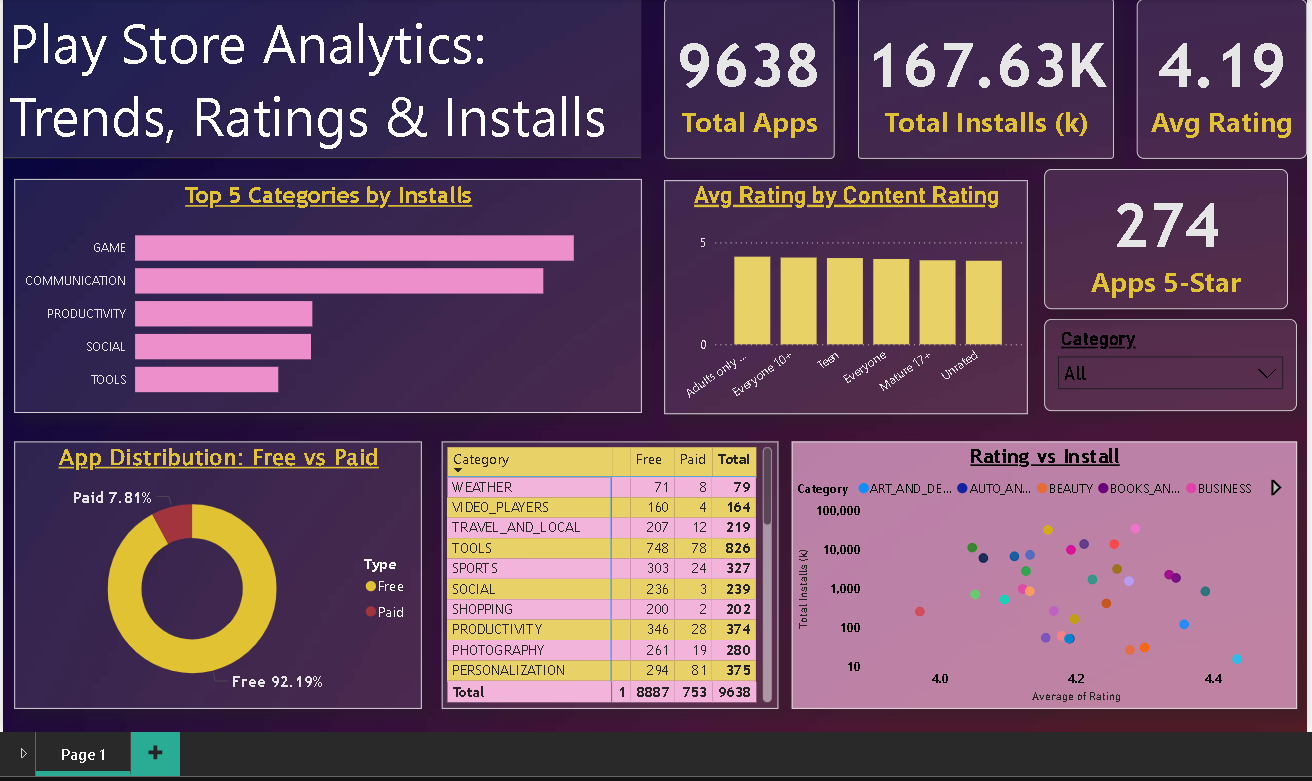

Layout of this report page (visuals, bound fields, positions):
{"tool":"powerbi","page":{"name":"Page 1","canvas":[1280,720],"ordinal":0},"visuals":[{"type":"textbox","box":[0,0,627,157.1],"z":0},{"type":"card","fields":{"Values":["cleaned_googleplaystore_dataset.Total Apps"]},"box":[649.1,0,166.9,157.1],"z":1000},{"type":"card","fields":{"Values":["cleaned_googleplaystore_dataset.Total Installs (k)"]},"box":[839.3,0,251.5,157.1],"z":2000},{"type":"card","fields":{"Values":["cleaned_googleplaystore_dataset.Avg Rating"]},"box":[1112.9,0,166.9,157.1],"z":3000},{"type":"clusteredBarChart","title":"Top 5 Categories by Installs","fields":{"Category":["cleaned_googleplaystore_dataset.Category"],"Y":["Sum(cleaned_googleplaystore_dataset.Installs)"]},"box":[11,176.7,616,229.4],"z":4000},{"type":"donutChart","title":"App Distribution: Free vs Paid","fields":{"Category":["cleaned_googleplaystore_dataset.Type"],"Y":["cleaned_googleplaystore_dataset.Total Apps"]},"box":[11,434.4,400,262.6],"z":5000},{"type":"clusteredColumnChart","fields":{"Category":["cleaned_googleplaystore_dataset.Content Rating"],"Y":["cleaned_googleplaystore_dataset.Avg Rating"]},"box":[649.1,177.9,357.1,229.4],"z":6000},{"type":"pivotTable","fields":{"Rows":["cleaned_googleplaystore_dataset.Category"],"Columns":["cleaned_googleplaystore_dataset.Type"],"Values":["cleaned_googleplaystore_dataset.Total Apps"]},"box":[430.7,434.4,330.1,262.6],"z":7000},{"type":"scatterChart","title":"Rating vs Install","fields":{"X":["Avg(cleaned_googleplaystore_dataset.Rating)"],"Series":["cleaned_googleplaystore_dataset.Category"],"Y":["cleaned_googleplaystore_dataset.Total Installs (k)"]},"box":[774.2,434.4,495.7,262.6],"z":8000},{"type":"slicer","fields":{"Values":["cleaned_googleplaystore_dataset.Category"]},"box":[1022.1,314.1,247.9,90.8],"z":9000},{"type":"card","fields":{"Values":["cleaned_googleplaystore_dataset.Apps 5-Star"]},"box":[1022.1,166.9,239.3,137.4],"z":10000}]}

Visuals, with their boxes on the page's 1280x720 design canvas (x1, y1, x2, y2). These are canvas units, not pixel positions in the 1312x781 screenshot, which may show the page scaled, cropped or inside an application window:
textbox: select_region(0, 0, 627, 157)
card - cleaned_googleplaystore_dataset.Total Apps: select_region(649, 0, 816, 157)
card - cleaned_googleplaystore_dataset.Total Installs (k): select_region(839, 0, 1091, 157)
card - cleaned_googleplaystore_dataset.Avg Rating: select_region(1113, 0, 1280, 157)
"Top 5 Categories by Installs" clusteredBarChart: select_region(11, 177, 627, 406)
"App Distribution: Free vs Paid" donutChart: select_region(11, 434, 411, 697)
clusteredColumnChart - cleaned_googleplaystore_dataset.Content Rating x cleaned_googleplaystore_dataset.Avg Rating: select_region(649, 178, 1006, 407)
pivotTable - cleaned_googleplaystore_dataset.Category x cleaned_googleplaystore_dataset.Type: select_region(431, 434, 761, 697)
"Rating vs Install" scatterChart: select_region(774, 434, 1270, 697)
slicer - cleaned_googleplaystore_dataset.Category: select_region(1022, 314, 1270, 405)
card - cleaned_googleplaystore_dataset.Apps 5-Star: select_region(1022, 167, 1261, 304)
